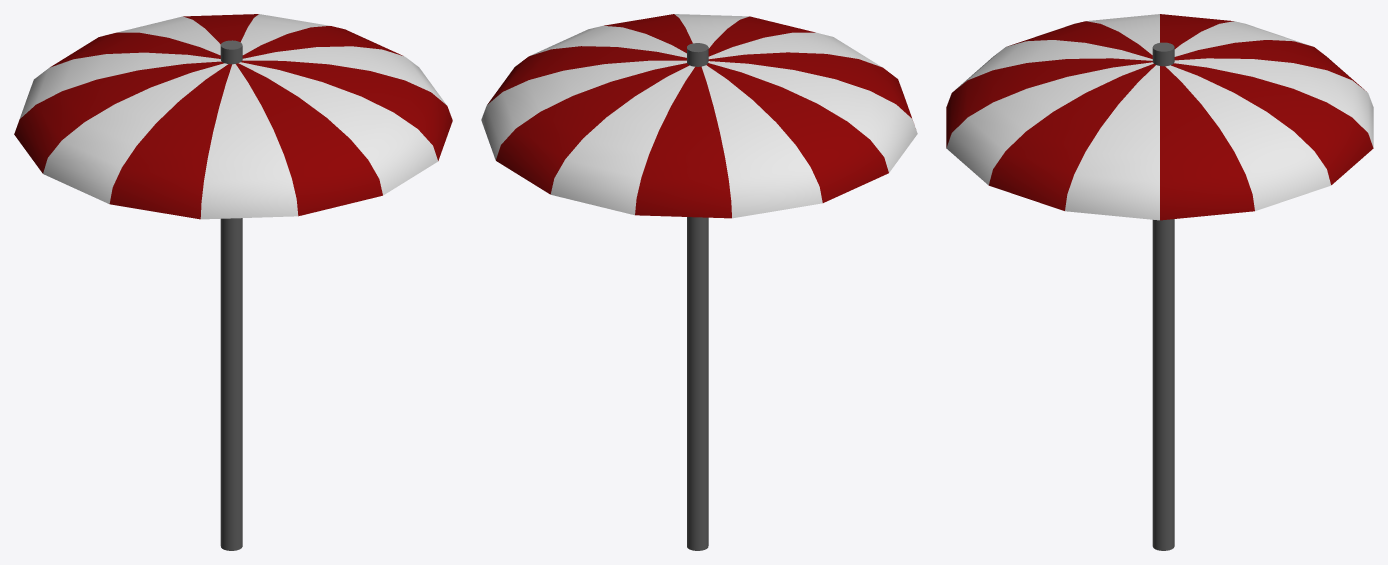
Rendered from RowenF_Umbrella_Divergence (1).fbx.
The picture shows the model from 3 angles, left to right: view 1: azimuth 30°, elevation 25°; view 2: azimuth 150°, elevation 25°; view 3: azimuth 270°, elevation 25°; orthographic projection.
Parts seen in each view (by area): view 1: pSphere1, pCylinder1; view 2: pSphere1, pCylinder1; view 3: pSphere1, pCylinder1.
Part boxes in pixels (bbox=[...]): pSphere1: bbox=[14, 14, 452, 219]; pCylinder1: bbox=[220, 40, 242, 550]; pSphere1: bbox=[481, 14, 917, 218]; pCylinder1: bbox=[687, 43, 708, 550]; pSphere1: bbox=[946, 14, 1373, 220]; pCylinder1: bbox=[1152, 42, 1174, 550].
Bounding box in the file's own units: 5.96 × 7.5 × 5.82.
